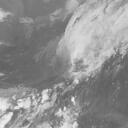cyclone: (55, 38, 99, 81)
